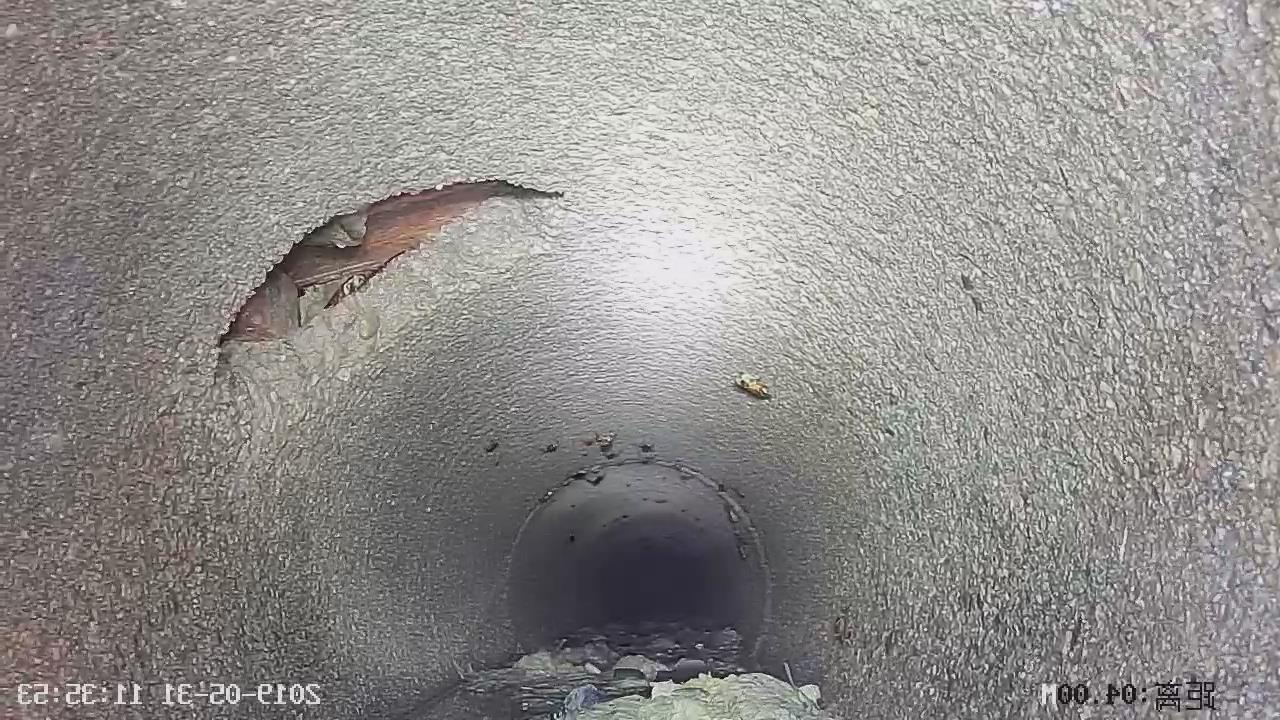PL: (195, 164, 551, 390)
